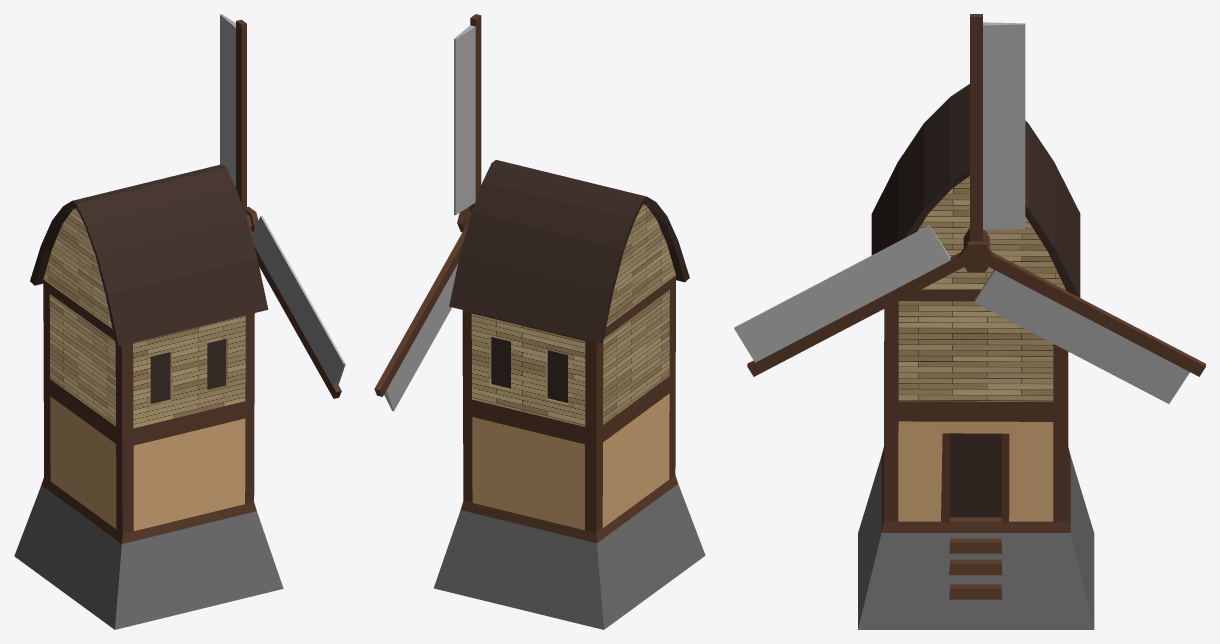
Rendered from Mill.glb.
3 views of the same model, side by side, from view 1: azimuth 30°, elevation 25°; view 2: azimuth 150°, elevation 25°; view 3: azimuth 270°, elevation 25° (orthographic). The views are drawn at different scales.
Parts seen in each view (by area): view 1: Plane; view 2: Plane; view 3: Plane.
Boxes of the visible parts, x1=… form: Plane: x1=14, y1=14, x2=345, y2=629; Plane: x1=374, y1=14, x2=705, y2=629; Plane: x1=734, y1=14, x2=1205, y2=629.
Bounding box in the file's own units: 0.6438 × 1.72 × 1.19.
Materials: 6 (1 with a texture image).
